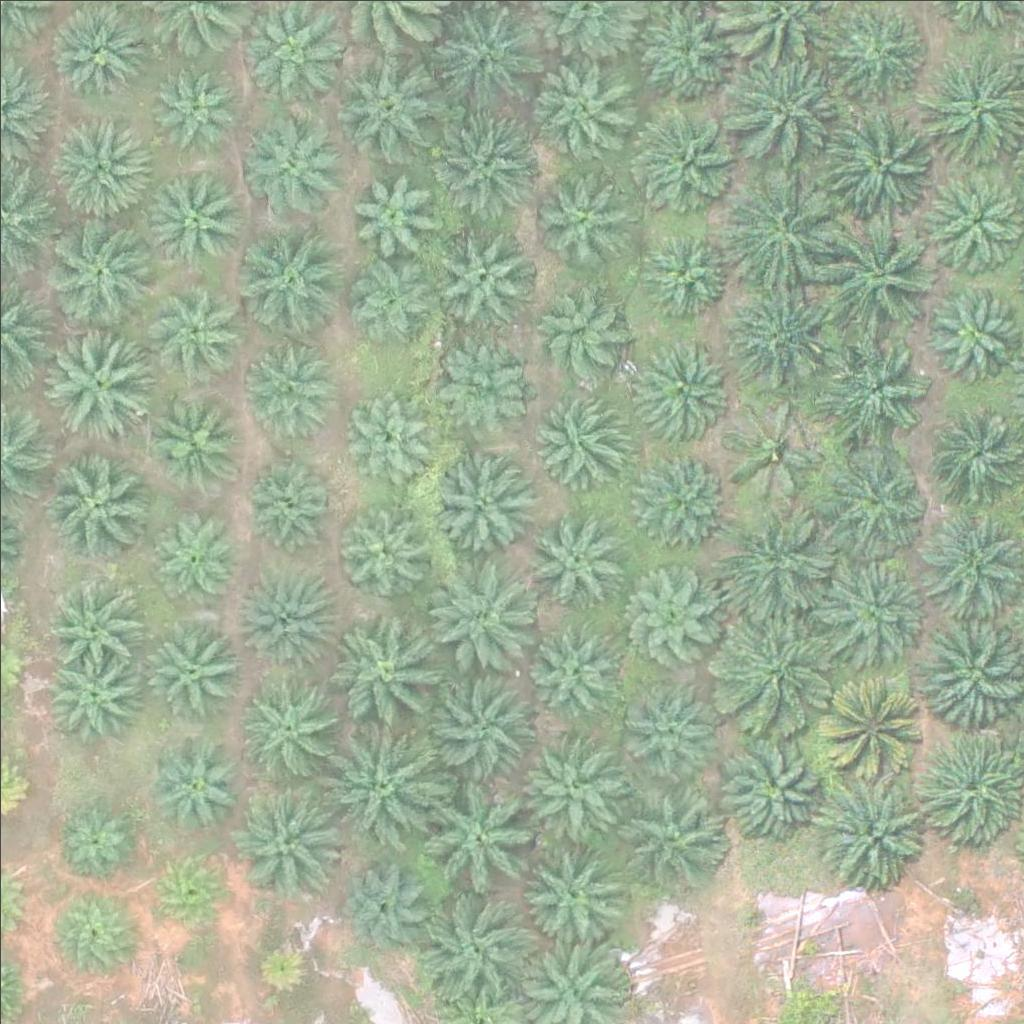Kelapa_Sawit: (39, 448, 152, 562), (823, 108, 936, 222), (46, 321, 159, 434), (424, 669, 537, 782), (430, 100, 543, 213), (729, 55, 842, 168), (726, 284, 839, 397), (722, 504, 835, 617), (718, 616, 831, 729), (824, 215, 937, 328), (327, 722, 440, 835), (421, 773, 534, 886), (719, 728, 832, 841), (426, 551, 538, 665), (727, 169, 839, 283), (44, 214, 156, 327), (332, 613, 444, 726), (335, 48, 447, 161), (819, 336, 931, 449), (231, 786, 343, 899), (416, 890, 528, 1003), (514, 740, 626, 853), (620, 777, 732, 890), (817, 771, 929, 884), (43, 645, 143, 746), (149, 732, 249, 833), (142, 616, 242, 717), (142, 392, 242, 493), (140, 275, 240, 376), (144, 164, 244, 265), (236, 676, 336, 777), (239, 343, 339, 444), (240, 224, 340, 325), (243, 115, 343, 216), (331, 503, 431, 604), (431, 448, 531, 549), (427, 219, 527, 320), (526, 506, 626, 607), (534, 386, 634, 487), (529, 286, 629, 387), (533, 54, 633, 155), (628, 451, 728, 552), (631, 335, 731, 436), (632, 109, 732, 210), (830, 562, 930, 663), (828, 450, 928, 551), (922, 505, 1022, 606), (521, 838, 621, 939), (46, 118, 146, 218), (240, 562, 340, 662), (435, 337, 535, 437), (625, 557, 725, 657), (631, 8, 731, 108), (719, 401, 819, 501), (824, 669, 924, 769), (151, 506, 239, 595), (929, 283, 1017, 372), (46, 578, 134, 666), (246, 463, 334, 551), (641, 223, 729, 311), (47, 890, 135, 978), (47, 798, 135, 886), (334, 865, 422, 953), (145, 61, 232, 150), (346, 395, 433, 483), (346, 254, 433, 342), (349, 166, 436, 254), (527, 624, 614, 712), (538, 171, 625, 259), (625, 679, 712, 767), (147, 848, 234, 936), (254, 932, 317, 995)
